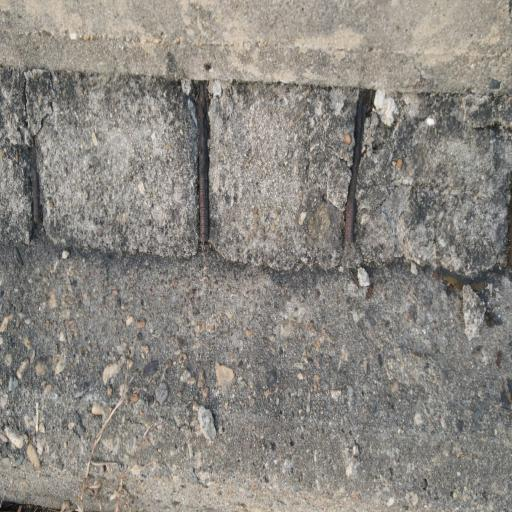exposed_rebar: (345, 91, 372, 244), (197, 82, 209, 244), (31, 140, 42, 224), (507, 174, 512, 268)
